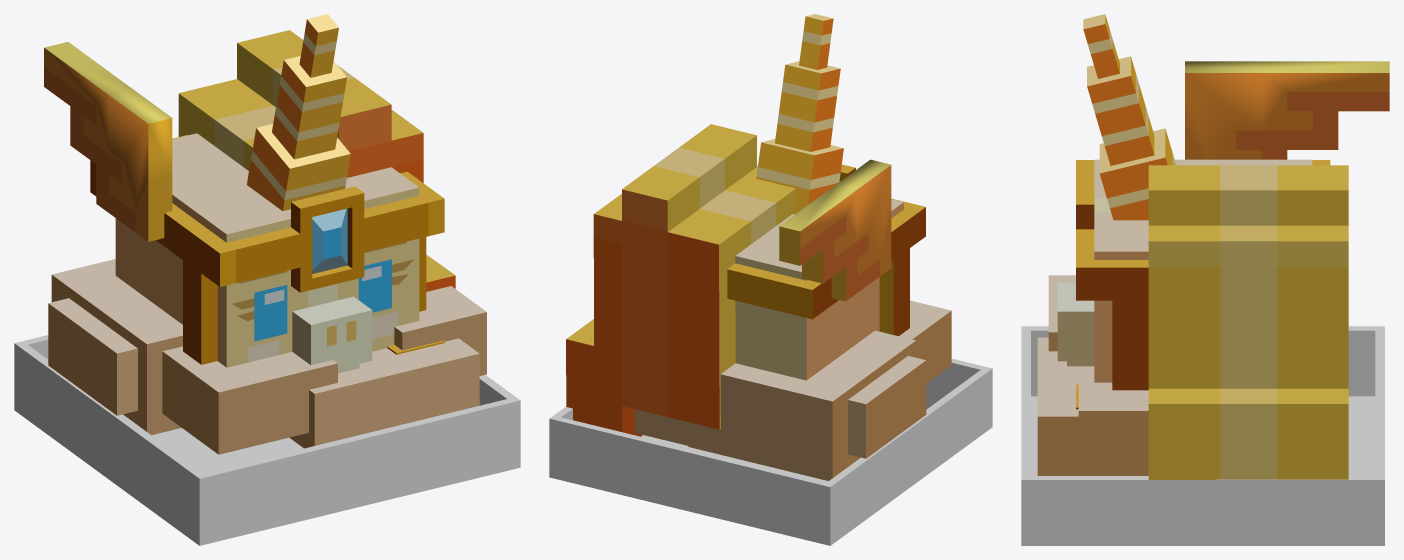
Rendered from Tower_Penelope_L5.fbx.
3 views of the same model, side by side, from view 1: azimuth 30°, elevation 25°; view 2: azimuth 150°, elevation 25°; view 3: azimuth 270°, elevation 25° (orthographic). The views are drawn at different scales.
Parts seen in each view (by area): view 1: Base, Penelope, Circlet, Hair, Wing, Cloud_00, Horn, Cloud_01, Cloud_03, Cloud_04, Cloud_02; view 2: Hair, Base, Cloud_03, Wing, Penelope, Horn, Circlet, Cloud_04, Cloud_00, Cloud_05; view 3: Hair, Base, Wing, Horn, Circlet, Penelope, Cloud_02, Cloud_01, Cloud_00.
Boxes of the visible parts, x1,y1,x2,y2 form: Base: (14, 335, 520, 545); Penelope: (115, 133, 419, 373); Circlet: (90, 135, 444, 364); Hair: (178, 30, 455, 291); Wing: (44, 42, 172, 241); Cloud_00: (162, 346, 337, 454); Horn: (247, 14, 350, 210); Cloud_01: (289, 338, 479, 448); Cloud_03: (51, 259, 182, 435); Cloud_04: (48, 298, 137, 415); Cloud_02: (394, 286, 486, 375); Hair: (566, 124, 795, 436); Base: (549, 358, 992, 545); Cloud_03: (688, 330, 915, 480); Wing: (779, 159, 891, 301); Penelope: (735, 166, 903, 380); Horn: (756, 14, 843, 214); Circlet: (727, 164, 925, 336); Cloud_04: (848, 356, 926, 458); Cloud_00: (899, 300, 951, 383); Cloud_05: (635, 409, 688, 445); Hair: (1148, 165, 1348, 479); Base: (1021, 326, 1384, 545); Wing: (1185, 61, 1389, 159); Horn: (1083, 14, 1175, 220); Circlet: (1076, 160, 1330, 409); Penelope: (1057, 159, 1312, 382); Cloud_02: (1078, 370, 1148, 472); Cloud_01: (1037, 337, 1148, 475); Cloud_00: (1048, 275, 1075, 351).
Bounding box in the file's own units: 101 × 137 × 101.
